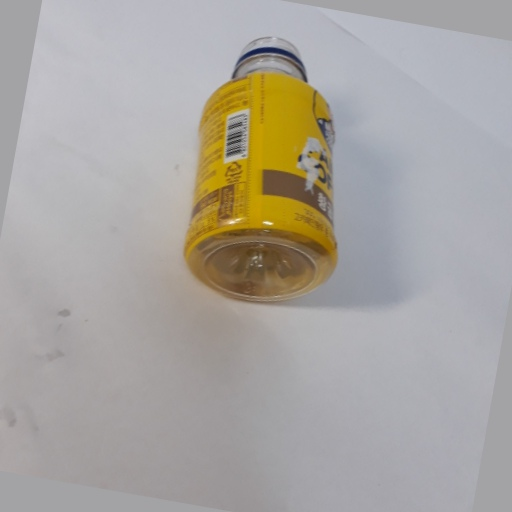Plastic_0: (184, 35, 343, 303)
